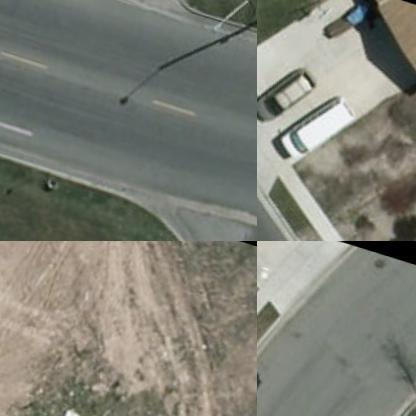car: (257, 46, 322, 138)
van: (272, 76, 366, 175)
